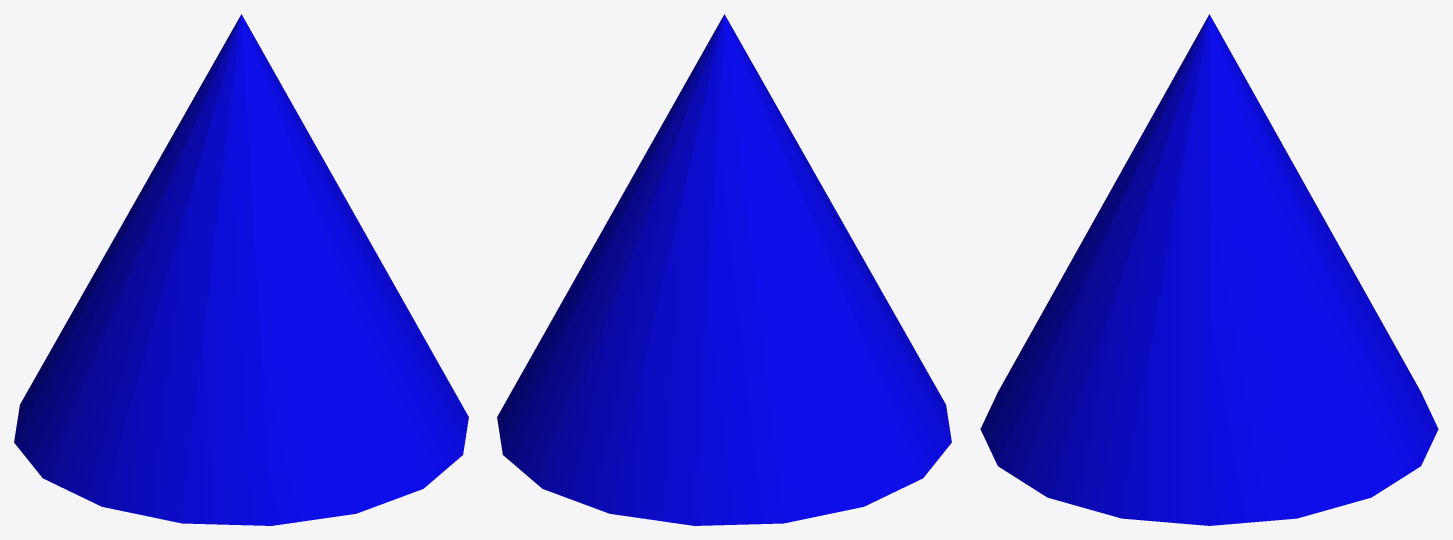
3 renders of one model, left to right at view 1: azimuth 30°, elevation 25°; view 2: azimuth 150°, elevation 25°; view 3: azimuth 270°, elevation 25°, orthographic.
Size of the model in its own units: 1 by 1 by 1.
